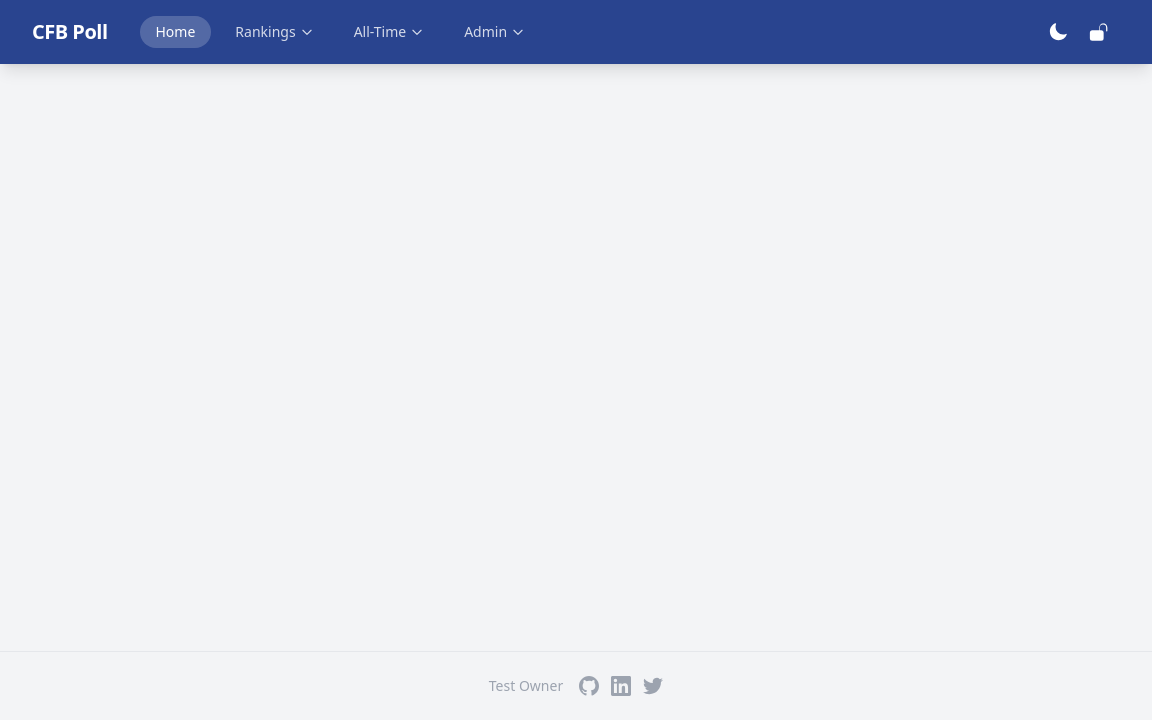
Test: Layout › confirms logout when Log Out is clicked in the confirm modal
Click the button named "Log out": point(1098, 32) [1080,14,1116,50]
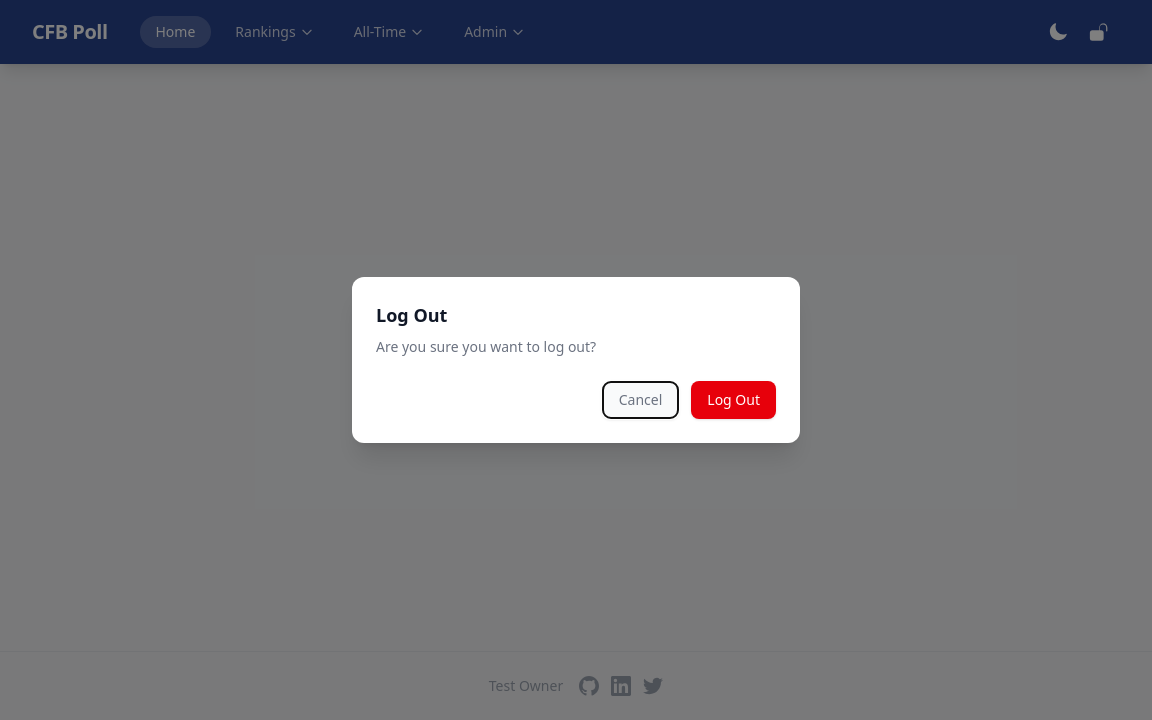
Click the button "Log Out": point(734, 400) [691,381,776,419]
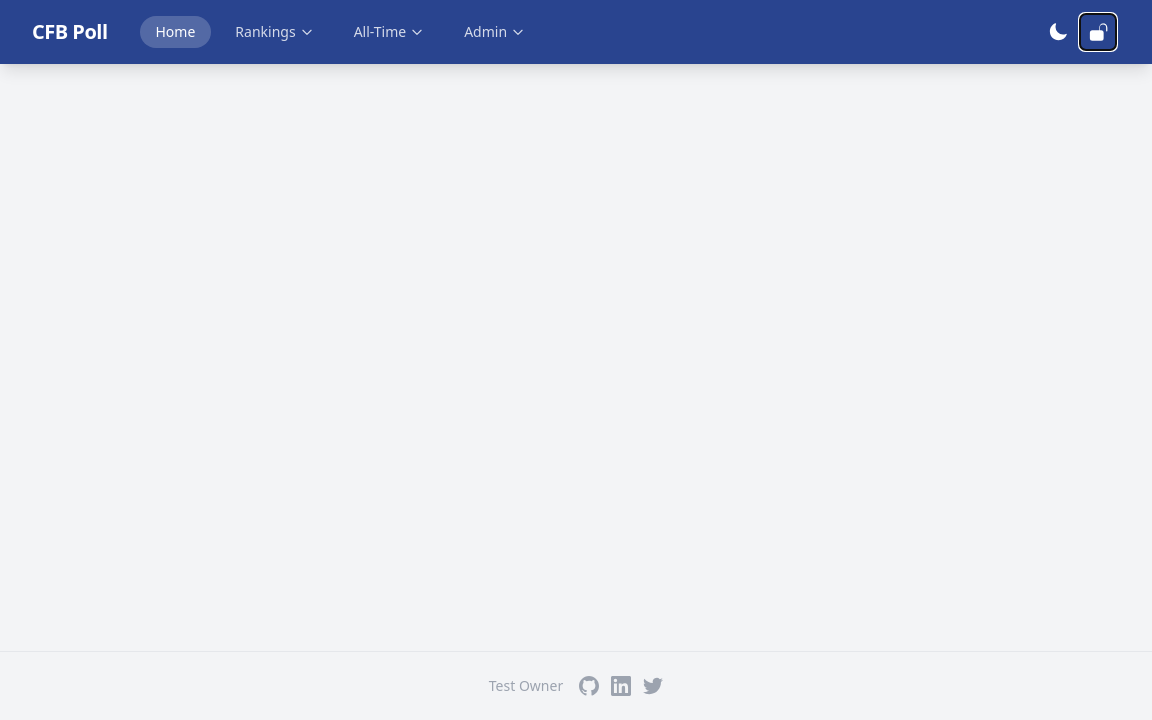
Check: the dialog is gone
